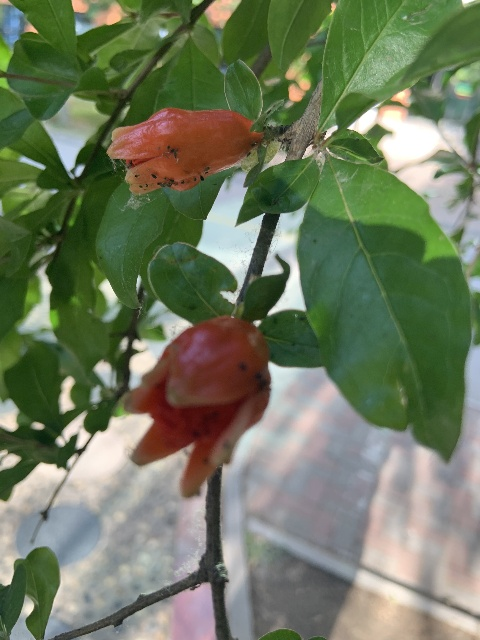flower: (124, 315, 272, 498), (105, 105, 263, 193)
